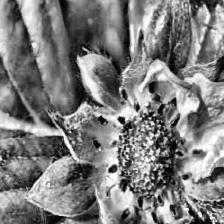Blossom Blight: (89, 79, 205, 224)
